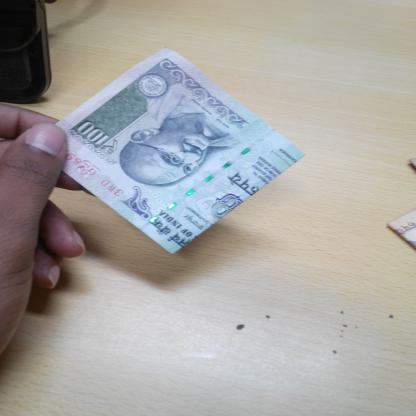Old100Front: (55, 46, 307, 256)
